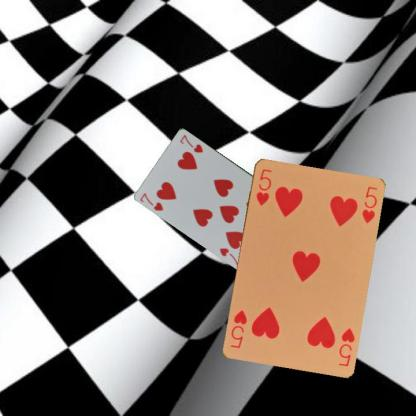5h: (336, 324, 356, 368), (253, 166, 273, 207)
7h: (138, 190, 164, 213)
